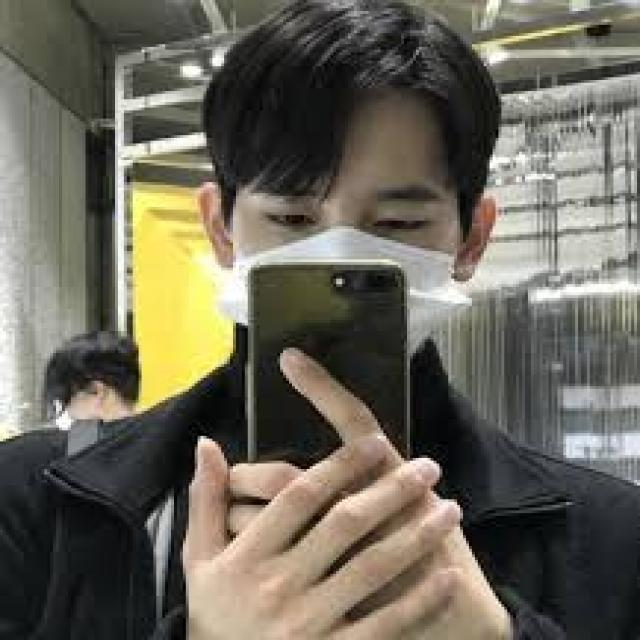Phone: (243, 258, 413, 520)
